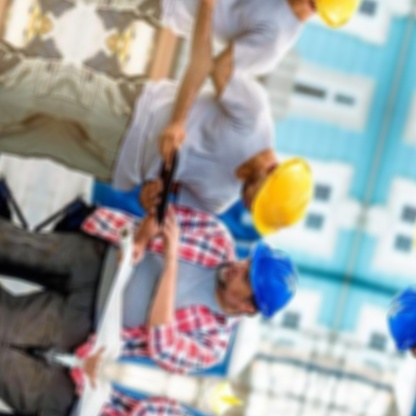blue: (234, 228, 312, 330)
yellow: (243, 140, 327, 246)
